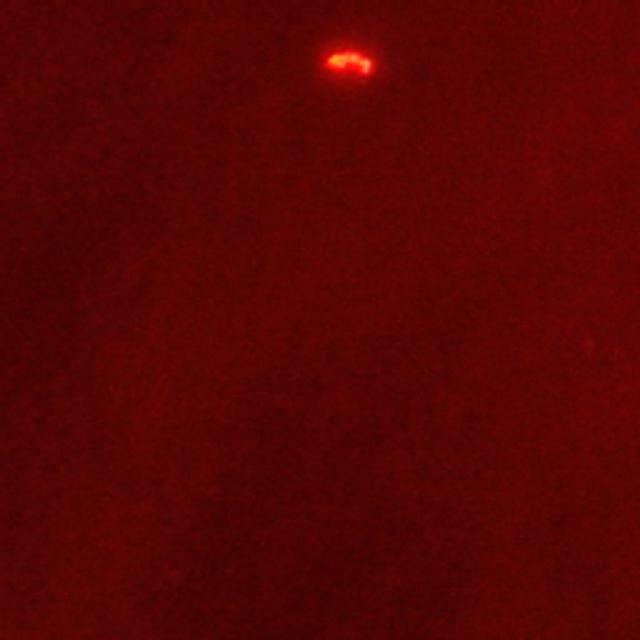Film: (323, 48, 377, 80)
